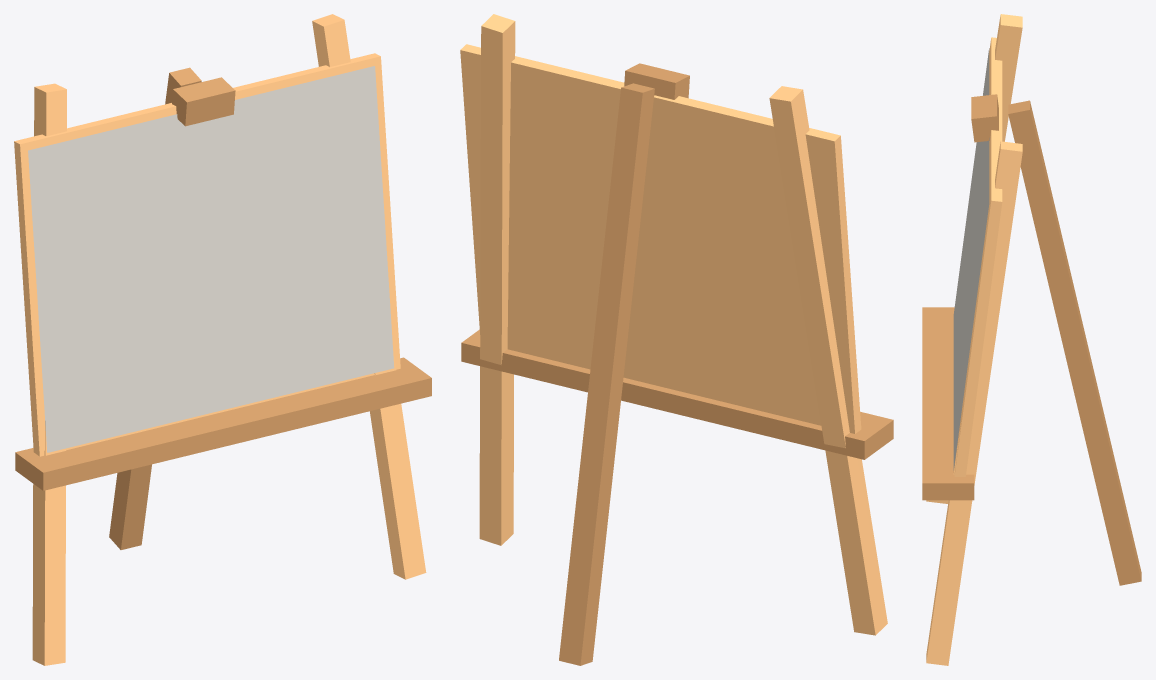
The model's file is sakasa-doodle.glb.
3 renders of one model, left to right at view 1: azimuth 30°, elevation 25°; view 2: azimuth 150°, elevation 25°; view 3: azimuth 270°, elevation 25°, orthographic. The views are drawn at different scales.
Visible parts, largest first — view 1: sakasa-doodle; view 2: sakasa-doodle; view 3: sakasa-doodle.
Part boxes in pixels (x1,y1,x2,y2): sakasa-doodle: [14, 14, 431, 665]; sakasa-doodle: [460, 14, 893, 665]; sakasa-doodle: [922, 14, 1141, 665].
Bounding box in the file's own units: 1.12 × 1.48 × 0.5893.
